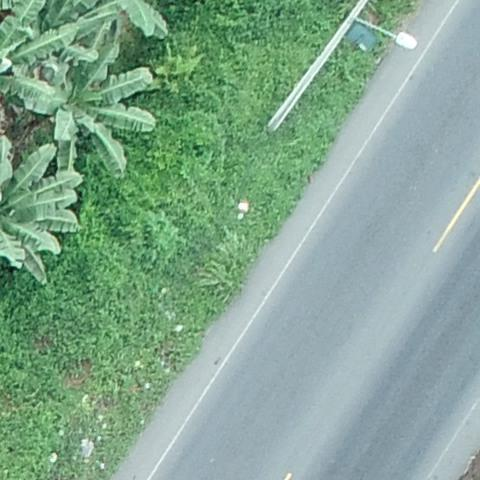Banana-plant: (21, 28, 161, 185), (0, 133, 82, 287)
